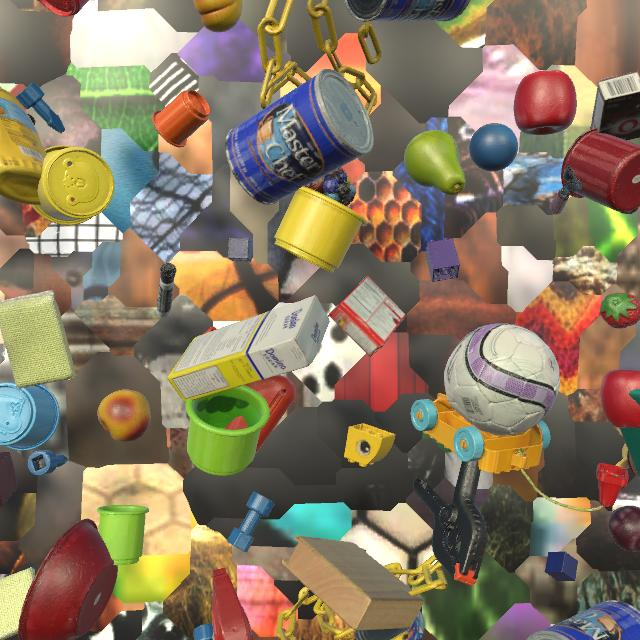ycb_002_master_chef_can: (225, 69, 374, 205), (526, 600, 640, 640), (344, 0, 470, 22)
ycb_004_sugar_box: (167, 295, 330, 403)
ycb_006_mustard_bottle: (0, 86, 47, 205)
ycb_007_tuna_fish_can: (354, 611, 425, 640)
ycb_008_pudding_box: (590, 70, 640, 140)
ycb_009_gelatin_box: (328, 275, 406, 357)
ycb_012_strawberry: (600, 293, 640, 329)
ycb_013_apple: (514, 70, 577, 135), (600, 370, 640, 428)
ycb_015_peach: (97, 389, 151, 442), (194, 0, 243, 32)
ycb_016_pear: (404, 130, 466, 195)
ycb_018_plum: (608, 505, 640, 552)
